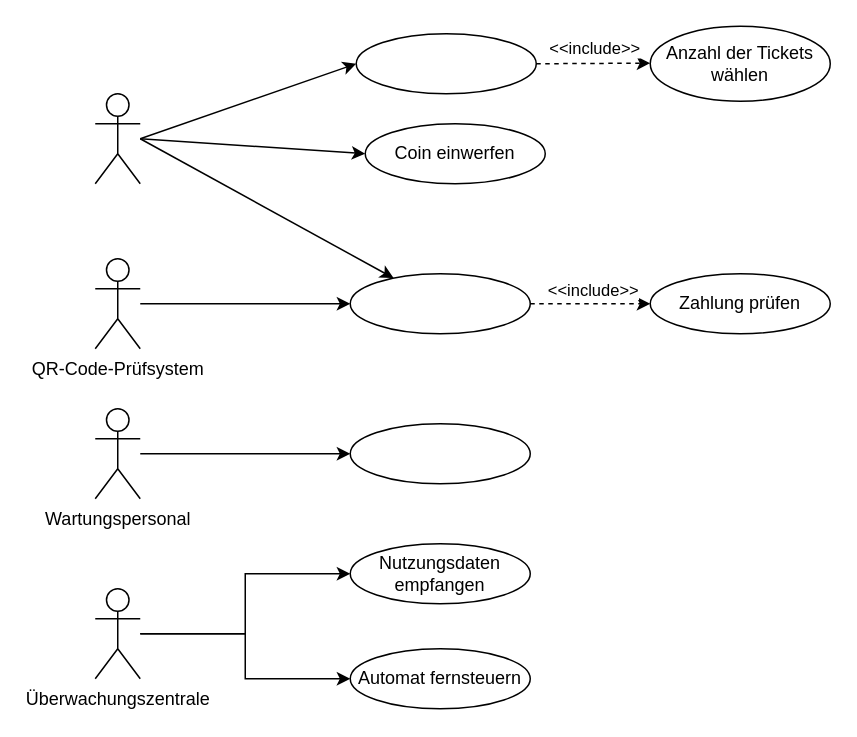
The diagram is 857 pixels wide and 737 high, and some of its shapes have lost their labels. Each missing label, with the centre of its shape:
"Benutzer" goes at (x=117, y=138).
"Fahrschein erhalten" goes at (x=439, y=303).
"Tickettyp wählen" goes at (x=445, y=63).
"Wartung durchführen" goes at (x=439, y=453).
